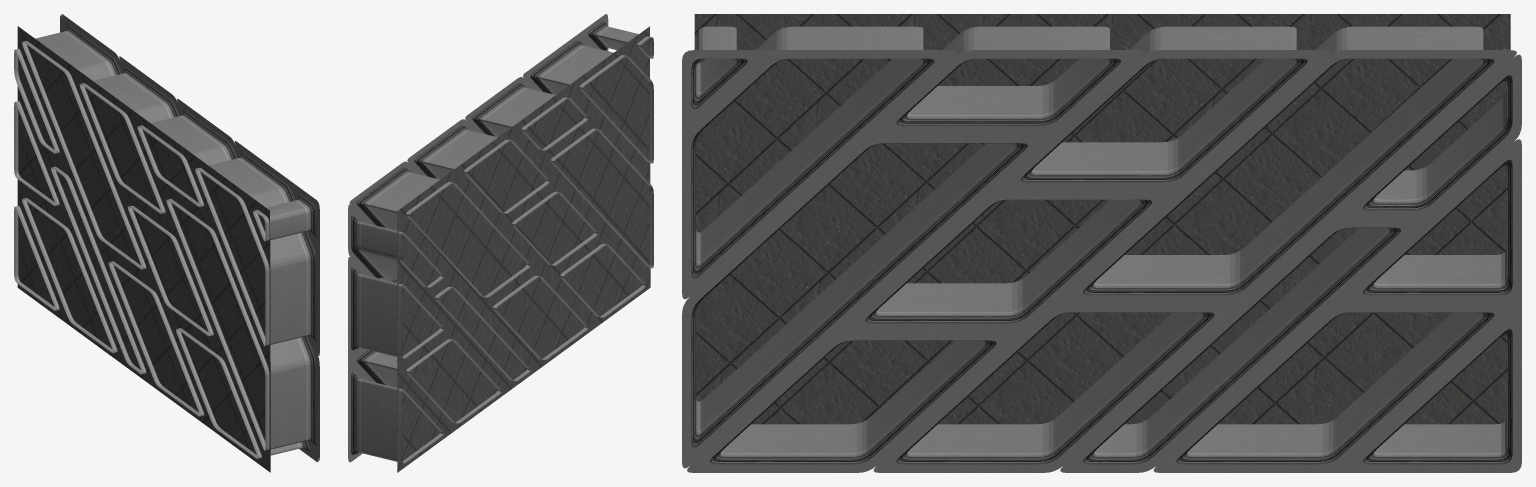
The model's file is Club_GlassWall_02.FBX.
3 renders of one model, left to right at view 1: azimuth 30°, elevation 25°; view 2: azimuth 150°, elevation 25°; view 3: azimuth 270°, elevation 25°, orthographic. The views are drawn at different scales.
Parts seen in each view (by area): view 1: Club_GlassWall_02; view 2: Club_GlassWall_02; view 3: Club_GlassWall_02.
Boxes of the visible parts, bbox=[...] form: Club_GlassWall_02: bbox=[14, 14, 319, 472]; Club_GlassWall_02: bbox=[348, 14, 653, 472]; Club_GlassWall_02: bbox=[682, 14, 1521, 472].
Bounding box in the file's own units: 1 × 5 × 9.
